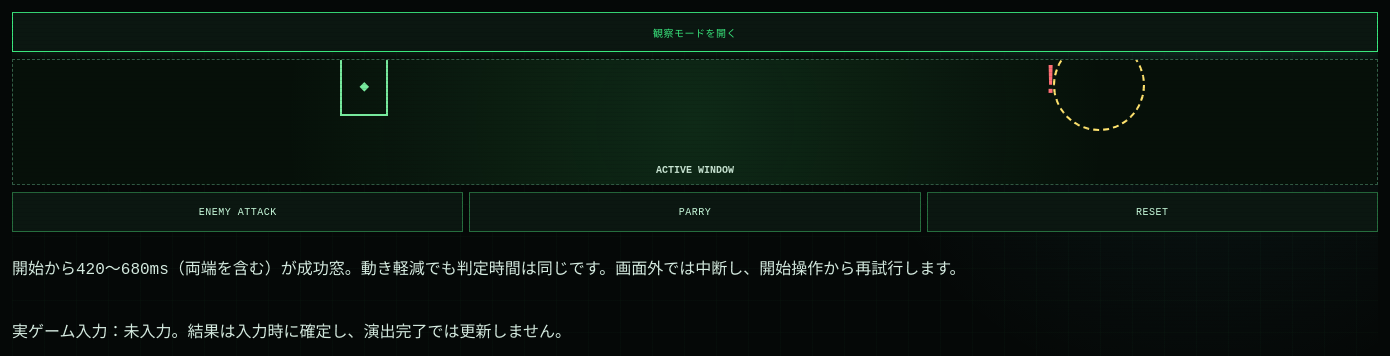
Scenario: parry live game isolation › offscreen interruption and reduced-motion switching keep judgment independent
The width and height of the screenshot is (1390, 356).
Earlier steps of the test are not shown.
Later steps or results of the test are not shown.
Click the button "PARRY" at {"x": 695, "y": 212}, box [469, 192, 921, 232]
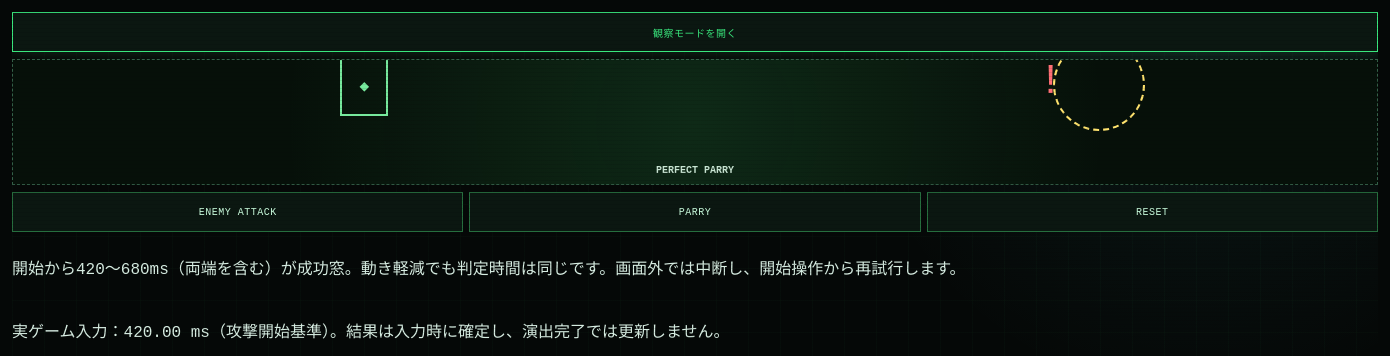
Check: the text "PERFECT PARRY" is shown, box [656, 165, 734, 176]
